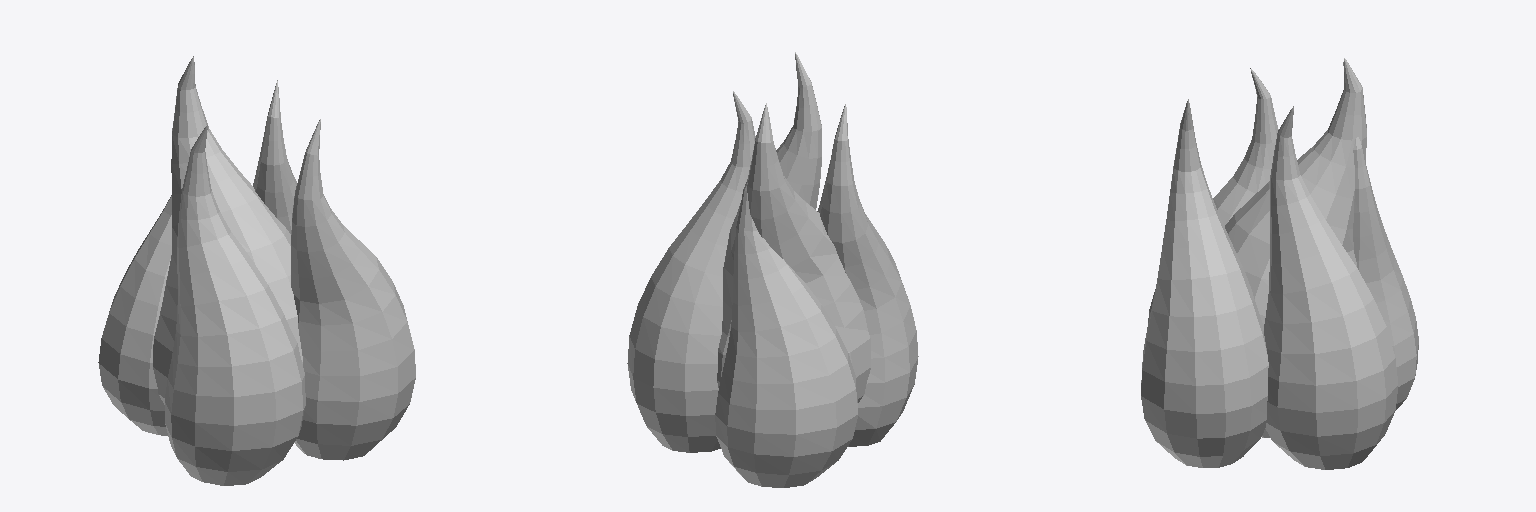
Rendered from fire_000067.obj.
3 renders of one model, left to right at view 1: azimuth 30°, elevation 25°; view 2: azimuth 150°, elevation 25°; view 3: azimuth 270°, elevation 25°, orthographic.
Visible parts, largest first — view 1: flame_NurbsPath.015; view 2: flame_NurbsPath.015; view 3: flame_NurbsPath.015.
Boxes of the visible parts, x1=… form: flame_NurbsPath.015: x1=98, y1=56, x2=415, y2=485; flame_NurbsPath.015: x1=627, y1=52, x2=918, y2=487; flame_NurbsPath.015: x1=1141, y1=58, x2=1418, y2=469.
Bounding box in the file's own units: 0.757 × 1.16 × 0.7988.